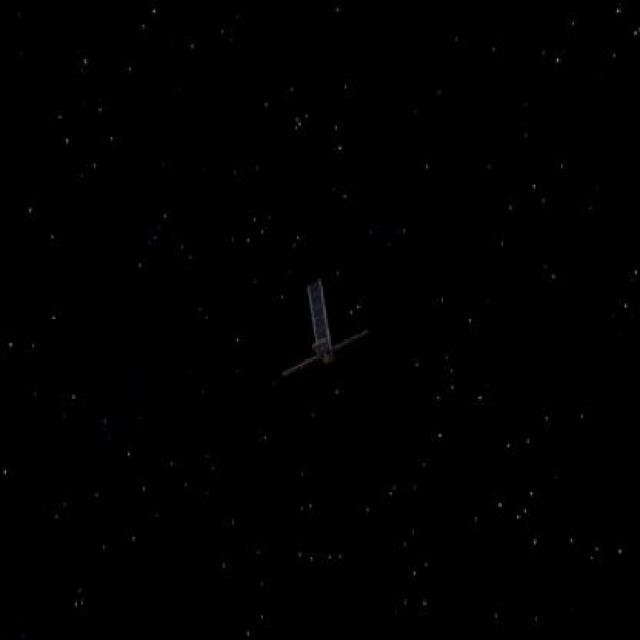medium_debris: (283, 277, 379, 386)
